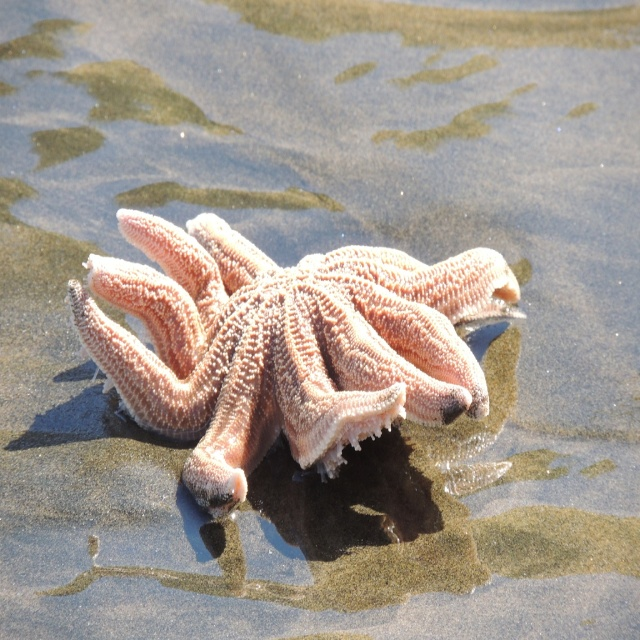Starfish: (69, 209, 527, 524)
